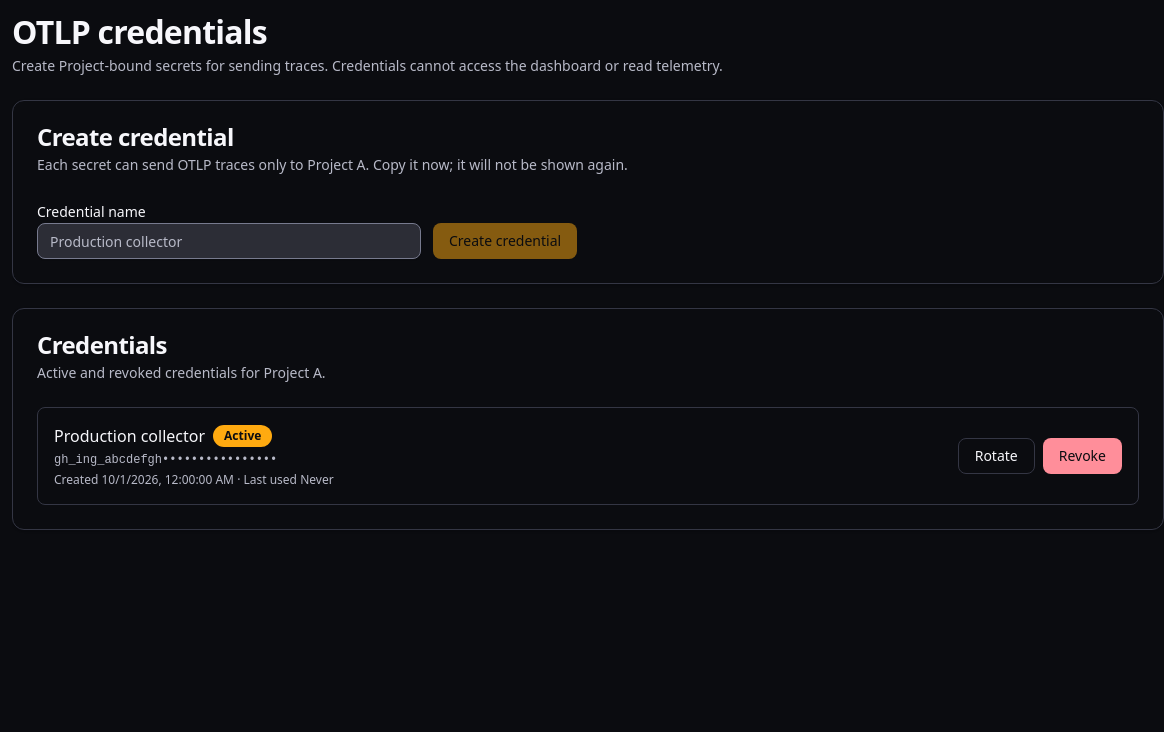
Test: OtlpCredentialsPage › removes the revealed secret and cached copies when its credential is revoked
Click the button "Rotate" at (996, 456), box [958, 438, 1035, 474]
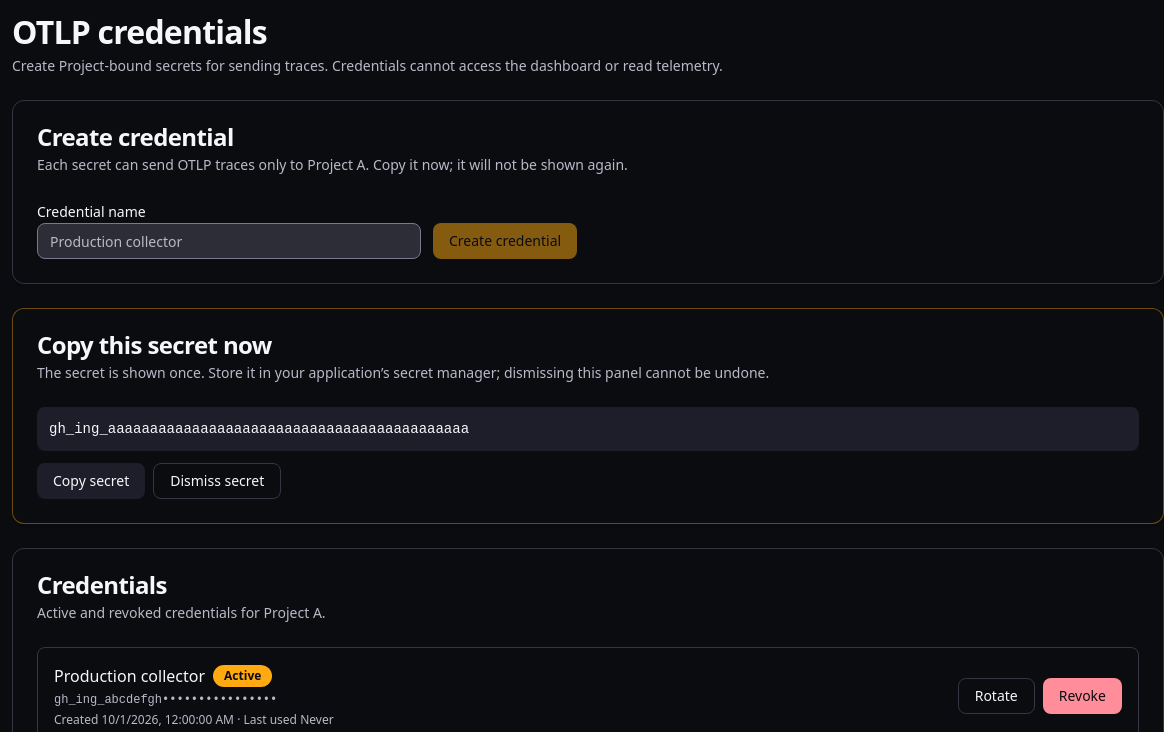
Click the button "Revoke" at (1082, 696), box [1043, 678, 1122, 714]
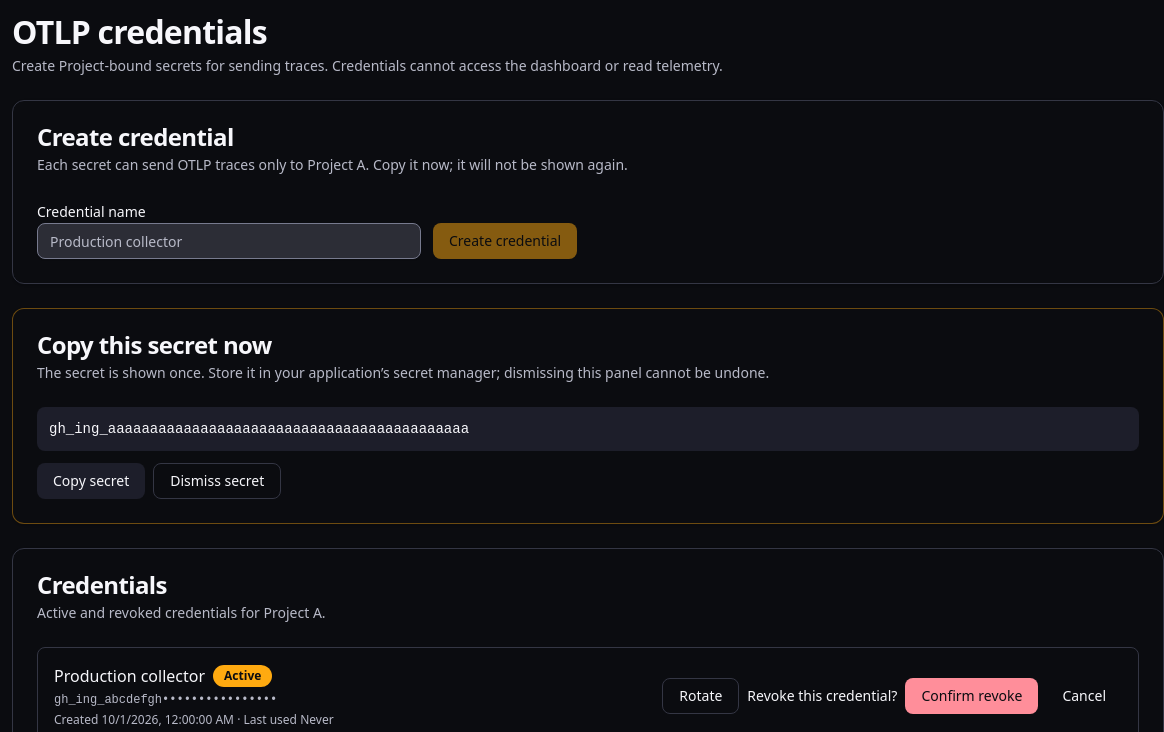
Click the button "Confirm revoke" at (972, 696), box [905, 678, 1038, 714]
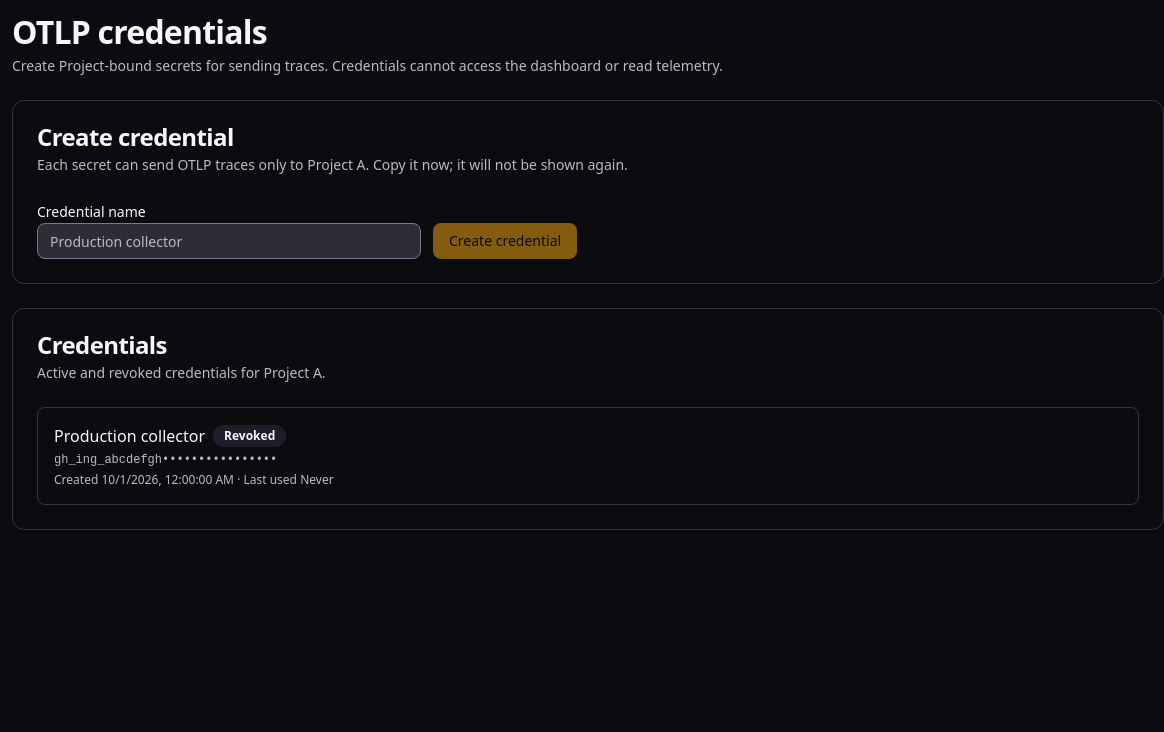
Check: the text "Revoked" is shown, box [213, 425, 286, 447]
Check: the button "Copy secret" is gone
